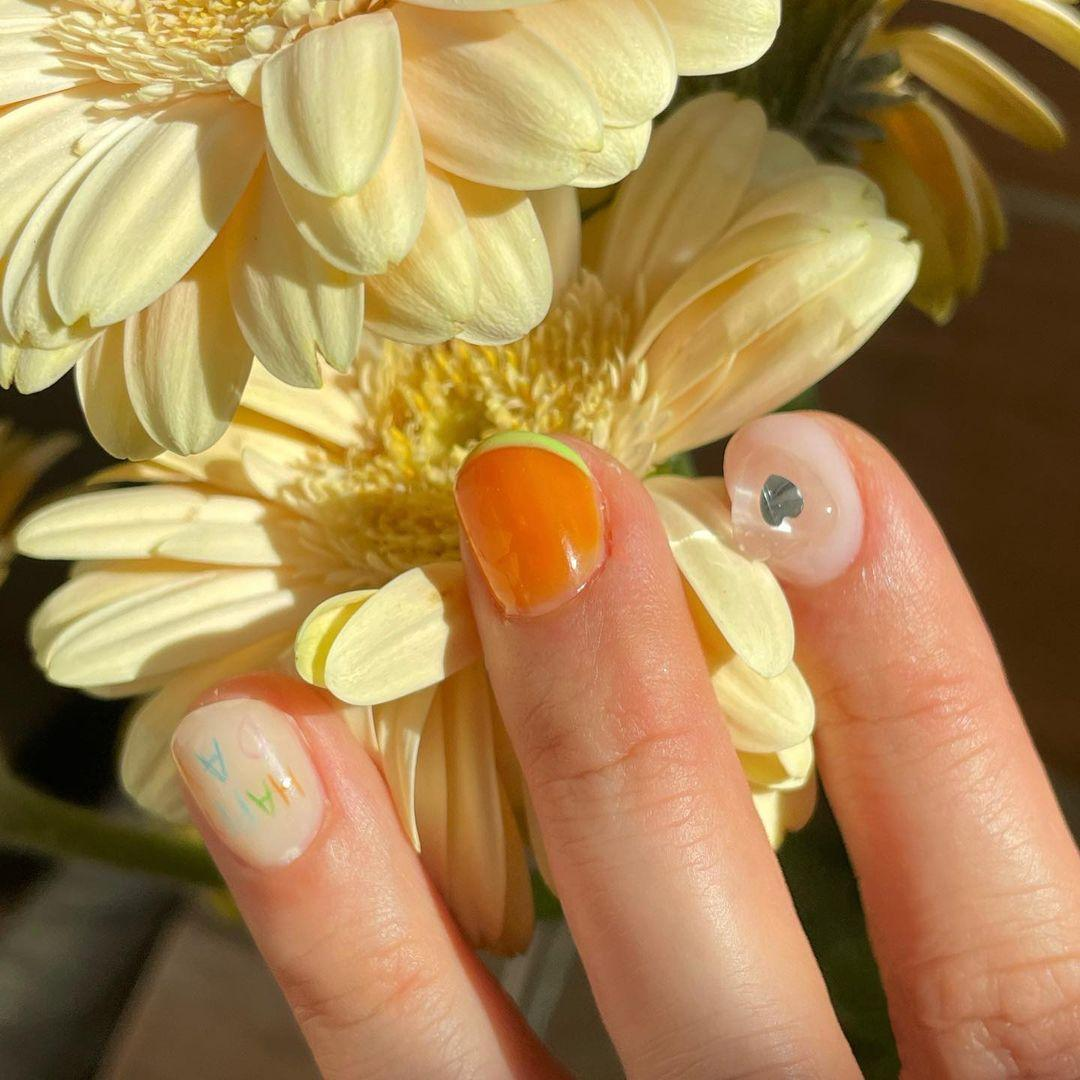nail: (451, 429, 609, 619), (168, 694, 327, 871), (721, 409, 864, 588)
